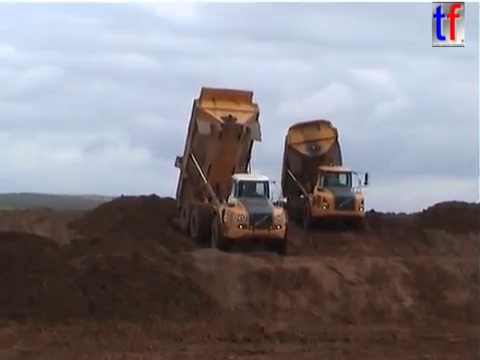truck: (172, 84, 292, 256), (279, 118, 370, 232)
